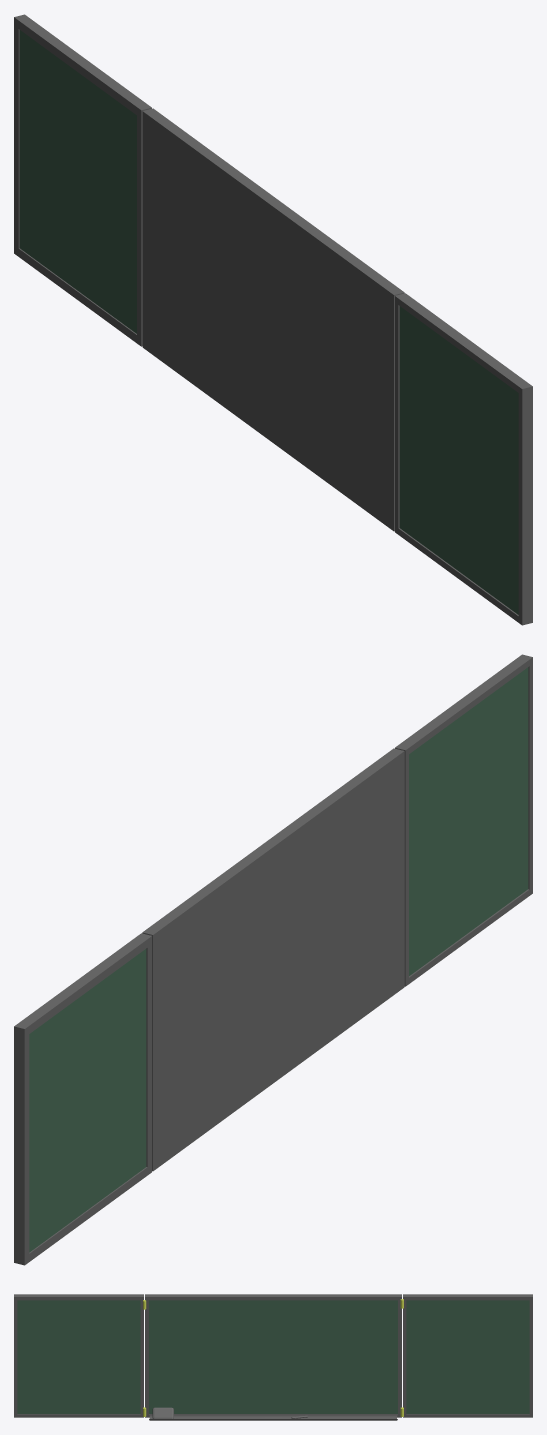
File: tablica (1).fbx
The picture shows the model from 3 angles, top to bottom: view 1: azimuth 30°, elevation 25°; view 2: azimuth 150°, elevation 25°; view 3: azimuth 270°, elevation 25°; orthographic projection. The views are drawn at different scales.
Visible parts, largest first — view 1: Tablica; view 2: Tablica; view 3: Tablica.
Boxes of the visible parts, left/top/right/bottom form: Tablica: left=14, top=14, right=532, bottom=625; Tablica: left=14, top=654, right=532, bottom=1265; Tablica: left=14, top=1294, right=532, bottom=1420.
Bounding box in the file's own units: 32.73 × 264 × 1029.
